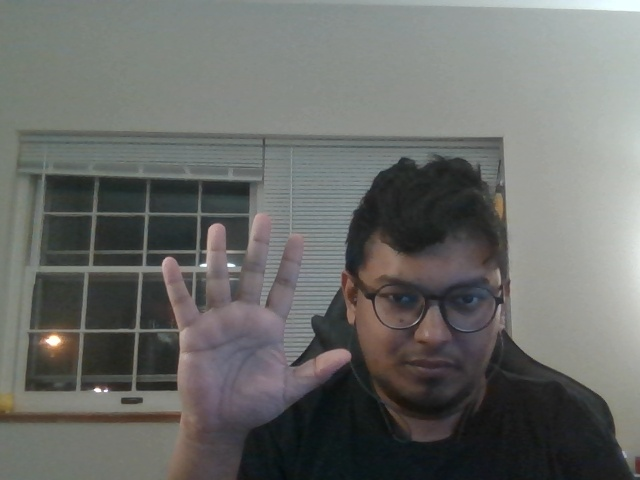hello: (148, 202, 362, 434)
